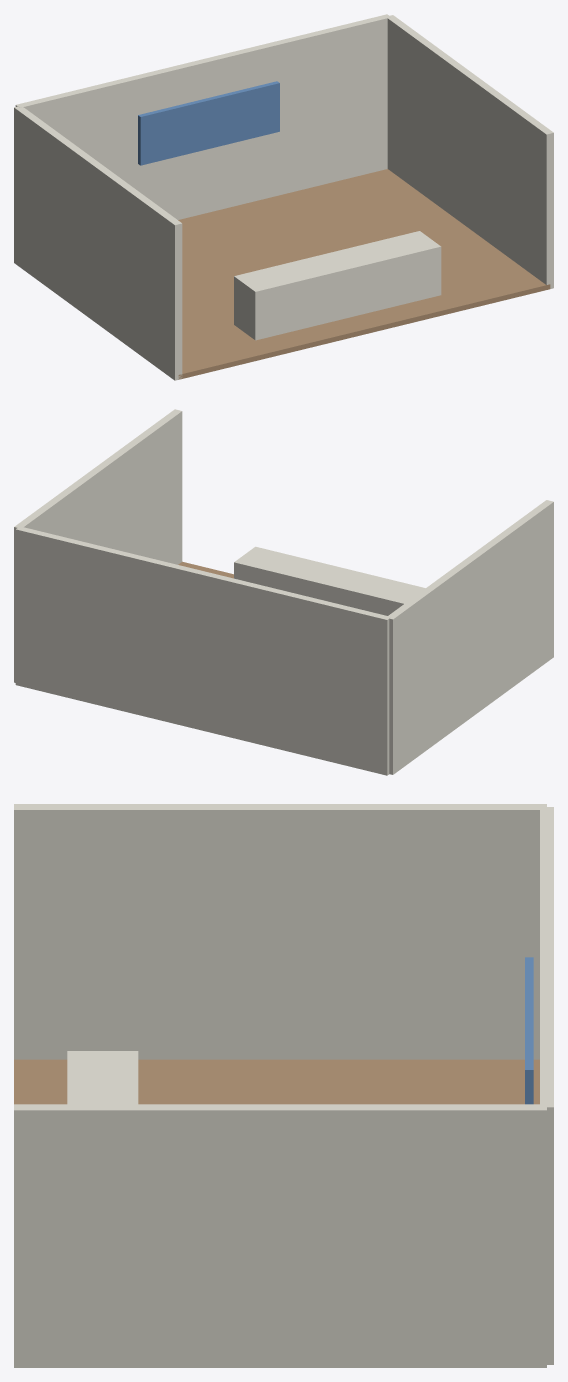
The model's file is lobby_counter.glb.
The picture shows the model from 3 angles, top to bottom: view 1: azimuth 30°, elevation 25°; view 2: azimuth 150°, elevation 25°; view 3: azimuth 270°, elevation 25°; orthographic projection. The views are drawn at different scales.
Parts seen in each view (by area): view 1: back, floor, left, right, counter, sign; view 2: back, left, right, counter; view 3: right, left, floor, back, counter, sign.
Boxes of the visible parts, x1,y1,x2,y2 form: back: (15,14,390,219); floor: (178,169,550,379); left: (14,106,182,380); right: (387,15,553,288); counter: (234,231,441,340); sign: (138,81,279,165); back: (15,526,390,775); left: (388,500,553,774); right: (14,409,182,682); counter: (234,546,425,615); right: (14,1104,546,1367); left: (14,804,546,1059); floor: (14,1059,539,1104); back: (540,807,553,1364); counter: (67,1051,138,1104); sign: (525,957,533,1104).
Size of the model in its own units: 8.16 by 3.2 by 6.08.
